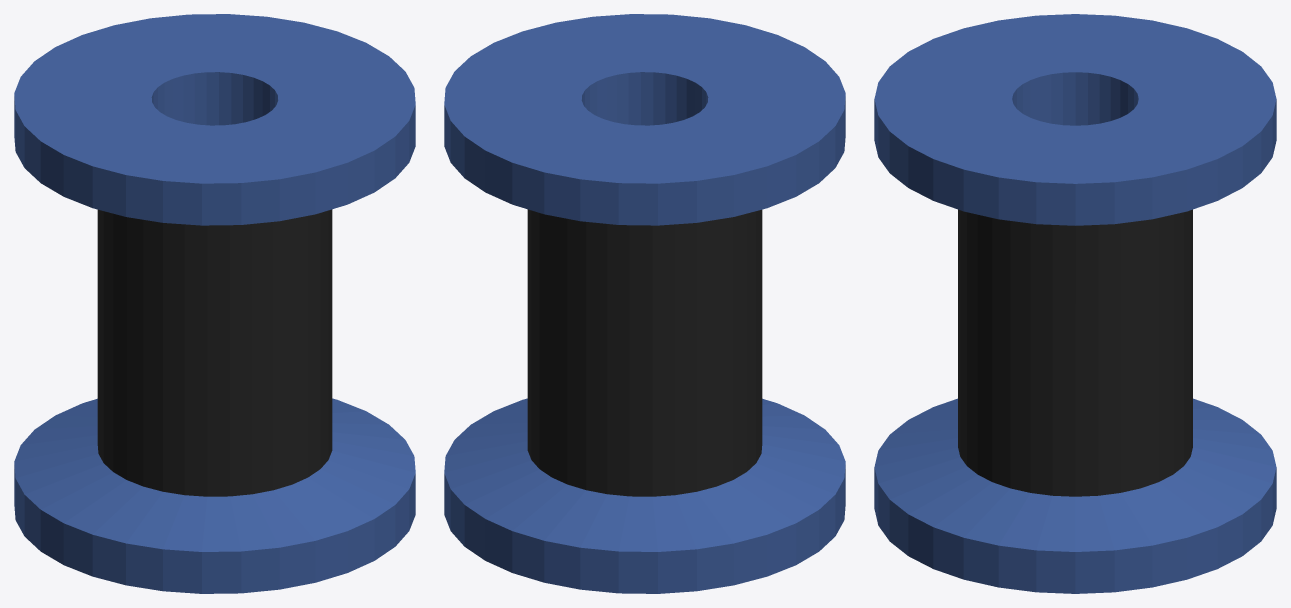
File: String Reel.fbx
3 renders of one model, left to right at view 1: azimuth 30°, elevation 25°; view 2: azimuth 150°, elevation 25°; view 3: azimuth 270°, elevation 25°, orthographic.
Parts seen in each view (by area): view 1: Cylinder, Cylinder.001; view 2: Cylinder, Cylinder.001; view 3: Cylinder, Cylinder.001.
Part boxes in pixels (<box>): Cylinder: <box>14,14,415,593</box>; Cylinder.001: <box>97,209,332,496</box>; Cylinder: <box>444,14,845,593</box>; Cylinder.001: <box>527,209,762,496</box>; Cylinder: <box>874,14,1276,593</box>; Cylinder.001: <box>958,209,1192,496</box>.
Bounding box in the file's own units: 28.87 × 32.49 × 28.87.
